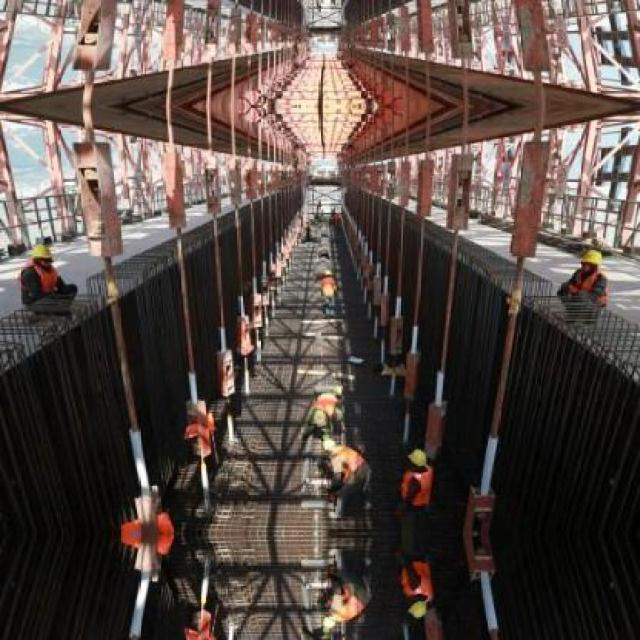helmet: (27, 238, 56, 269), (577, 244, 601, 279), (405, 447, 429, 477), (405, 588, 429, 618), (318, 436, 340, 457), (318, 608, 340, 629)
